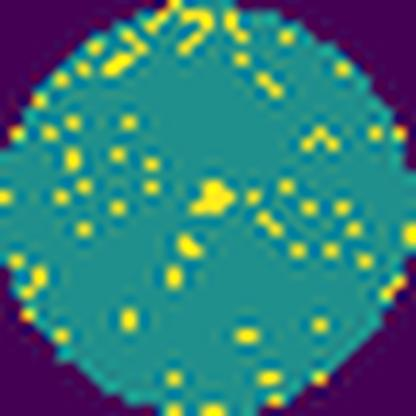Center: (182, 174, 244, 226)
